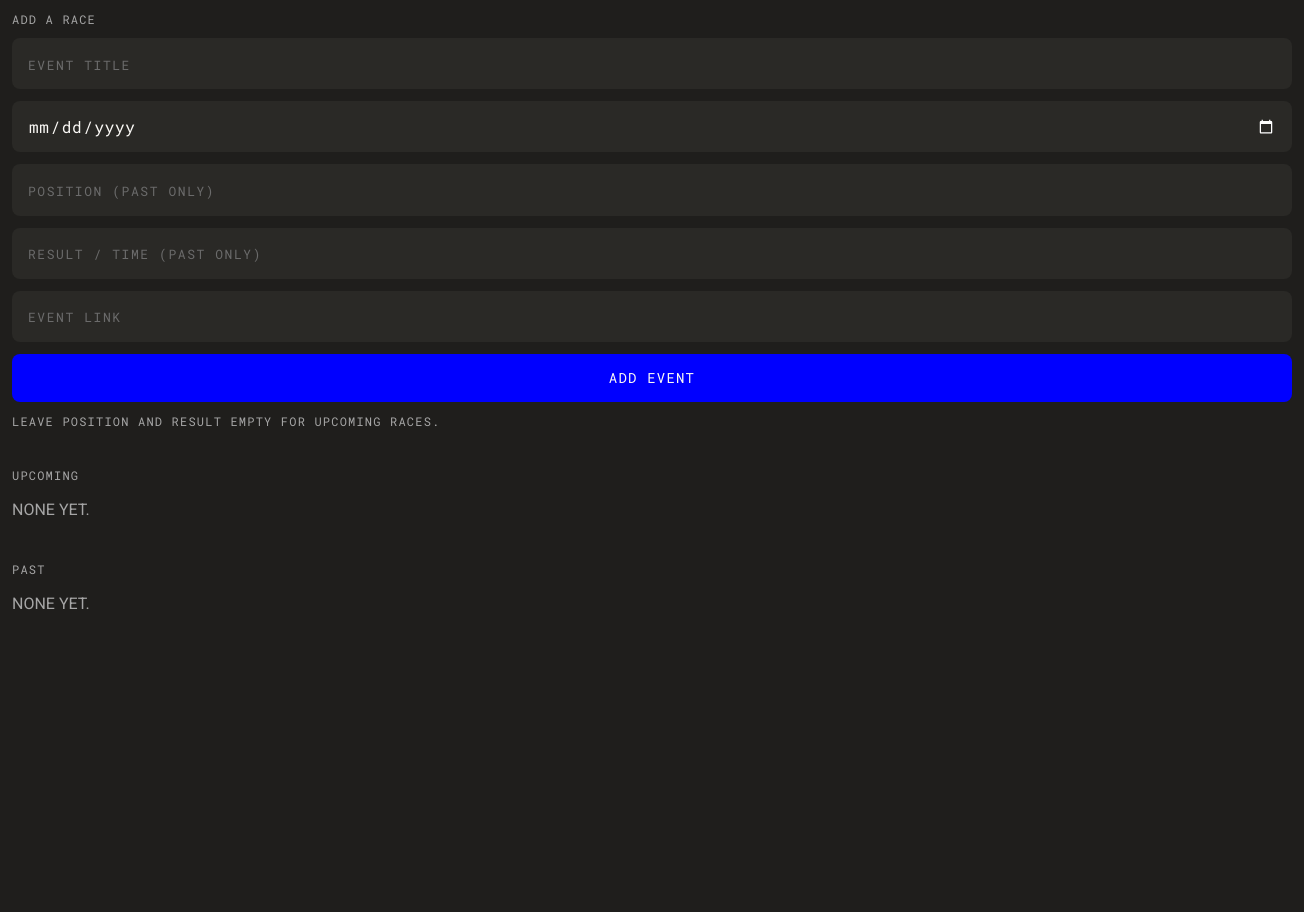
EventManager › shows insert errors
Type "Bad Race" into the field with placeholder "Event title".
click(652, 64); type("Bad Race")  # box x1=12 y1=38 x2=1292 y2=89
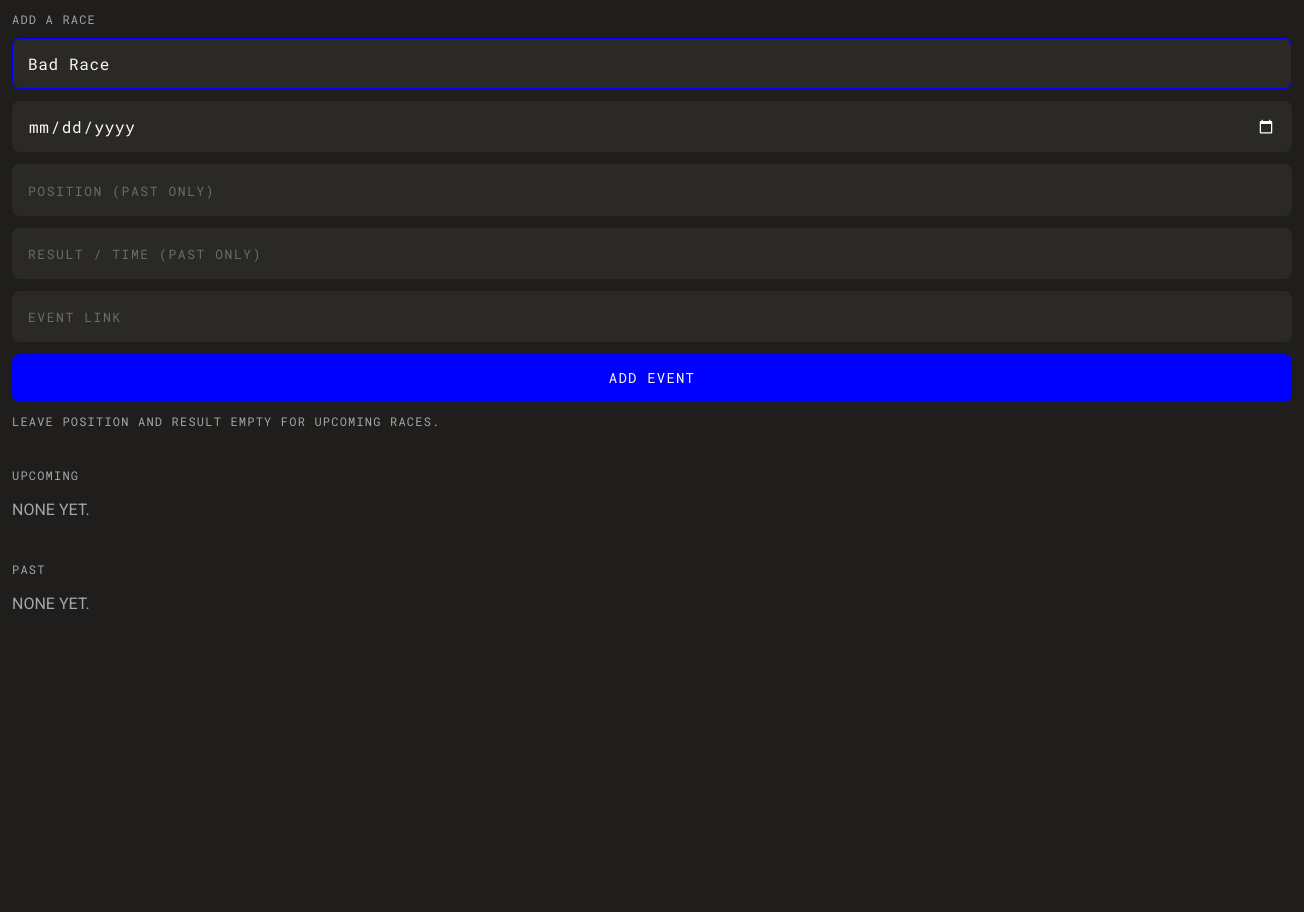
Type "2026-10-01" into the date field named "event_date".
click(652, 127); type("2026-10-01")  # box x1=12 y1=101 x2=1292 y2=152
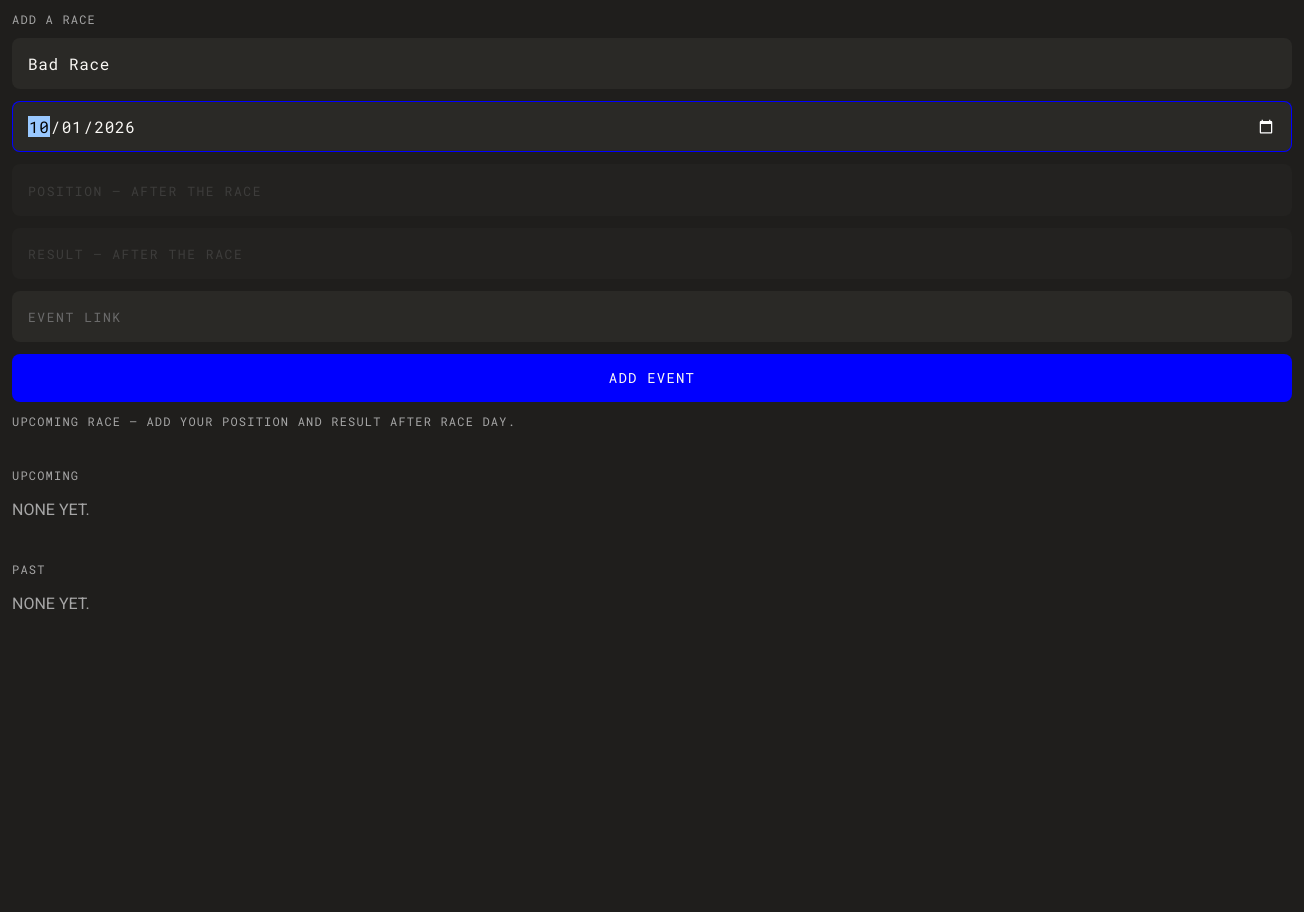
Type "https://baa.org" into the field with placeholder "Event link".
click(652, 316); type("https://baa.org")  # box x1=12 y1=291 x2=1292 y2=342
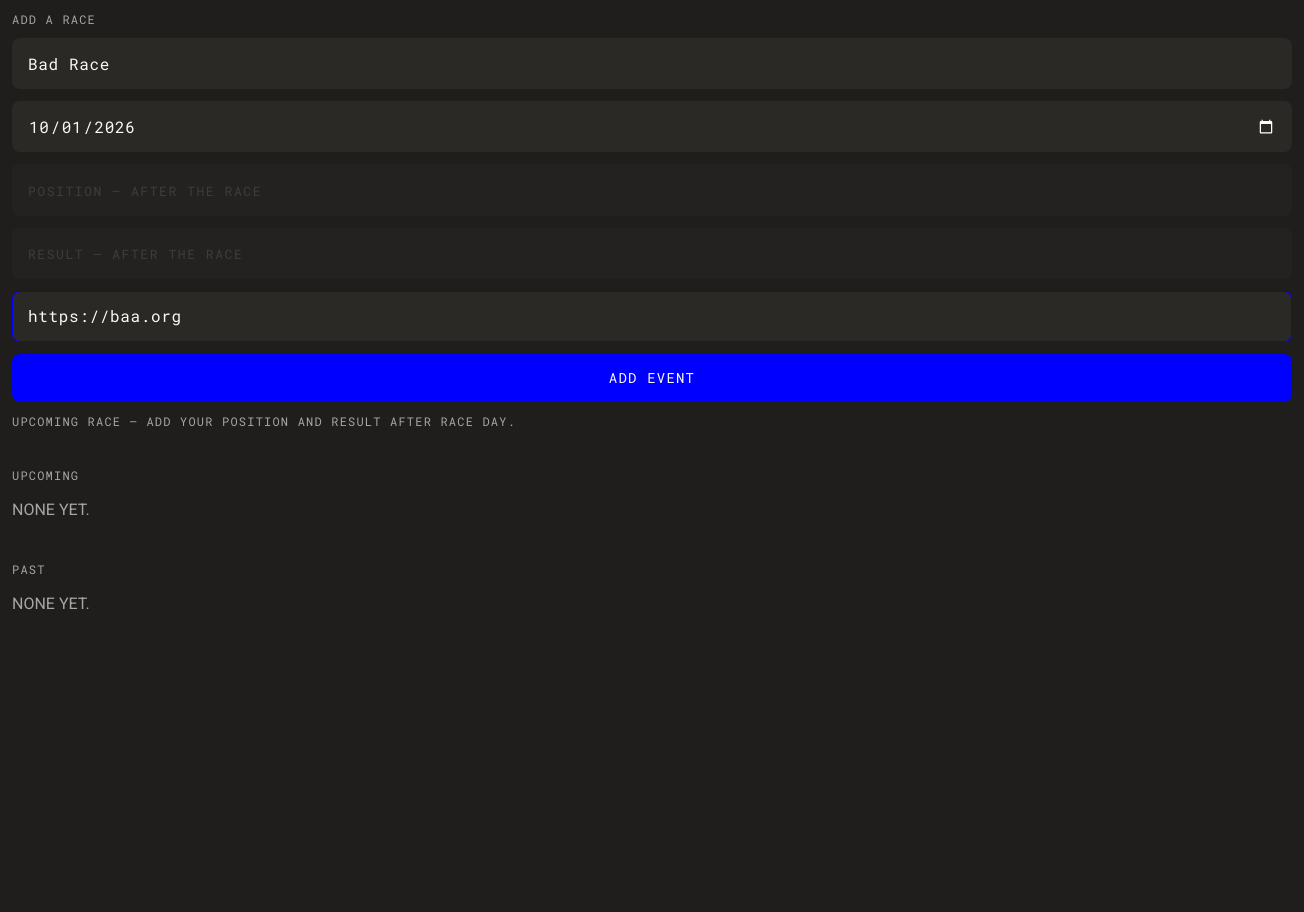
Click the button "Add event".
click(652, 378)  # box x1=12 y1=354 x2=1292 y2=402
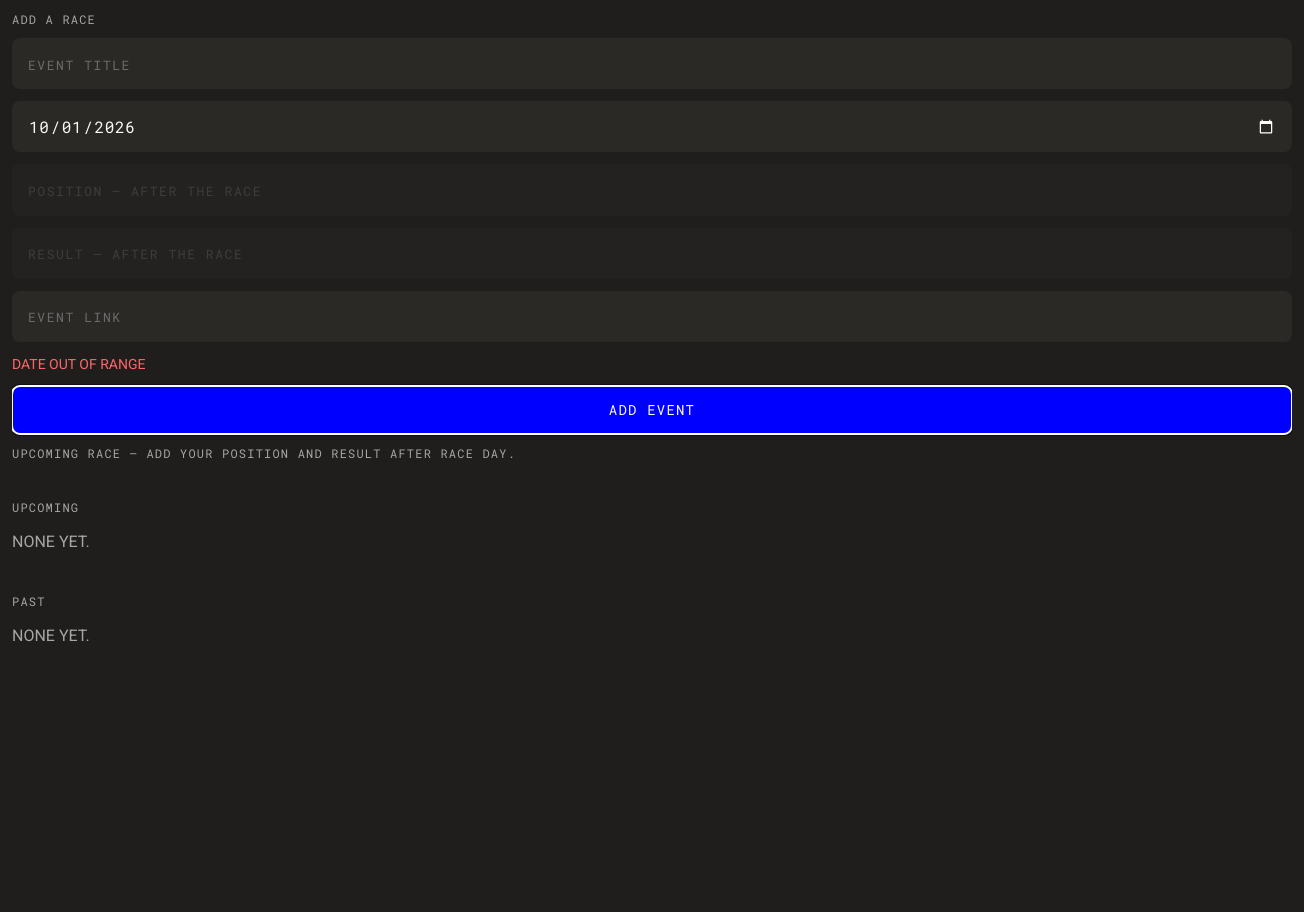
Now the text "date out of range" is shown, box x1=12 y1=356 x2=145 y2=372
